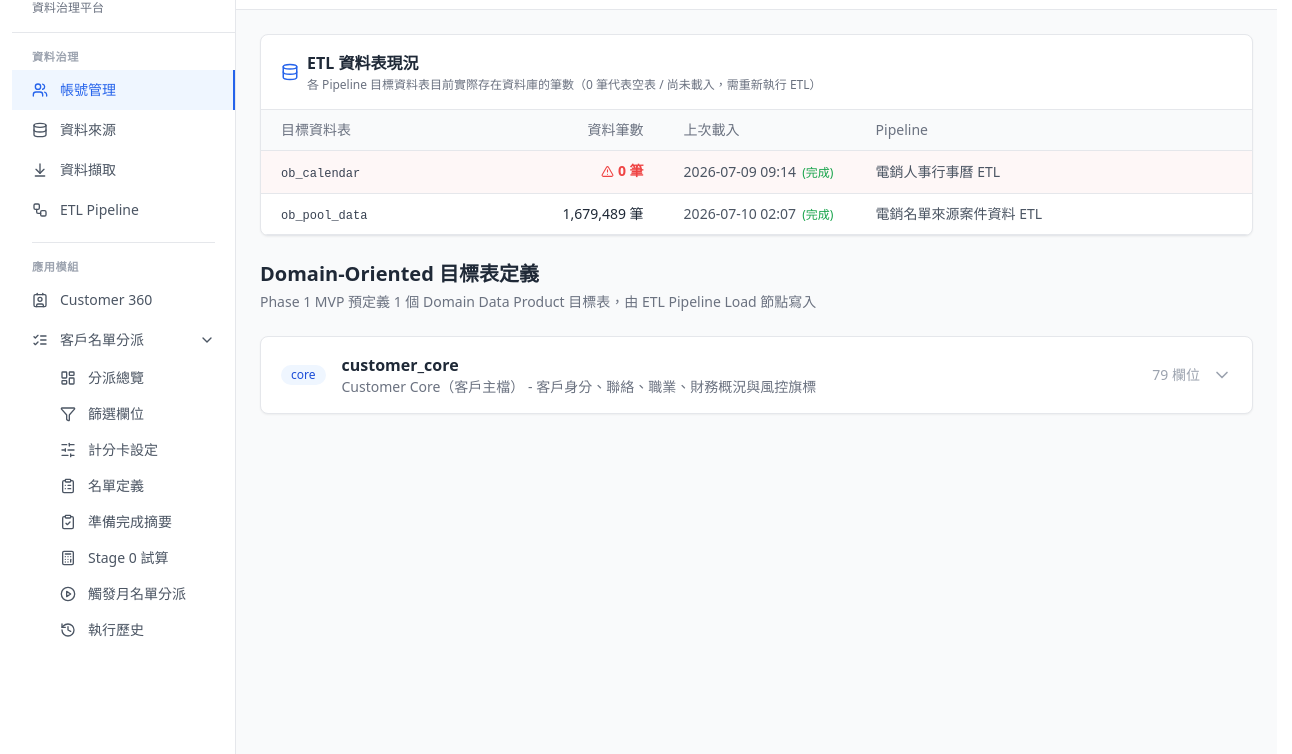
Test case: TargetTablesPage (v2.0 — 1 table) › should show ETL tracking rows with auto-fill label
The width and height of the screenshot is (1292, 754).
Click the button with test id "toggle-core" at (756,374), box [261,336,1252,412]
(page scrolled)
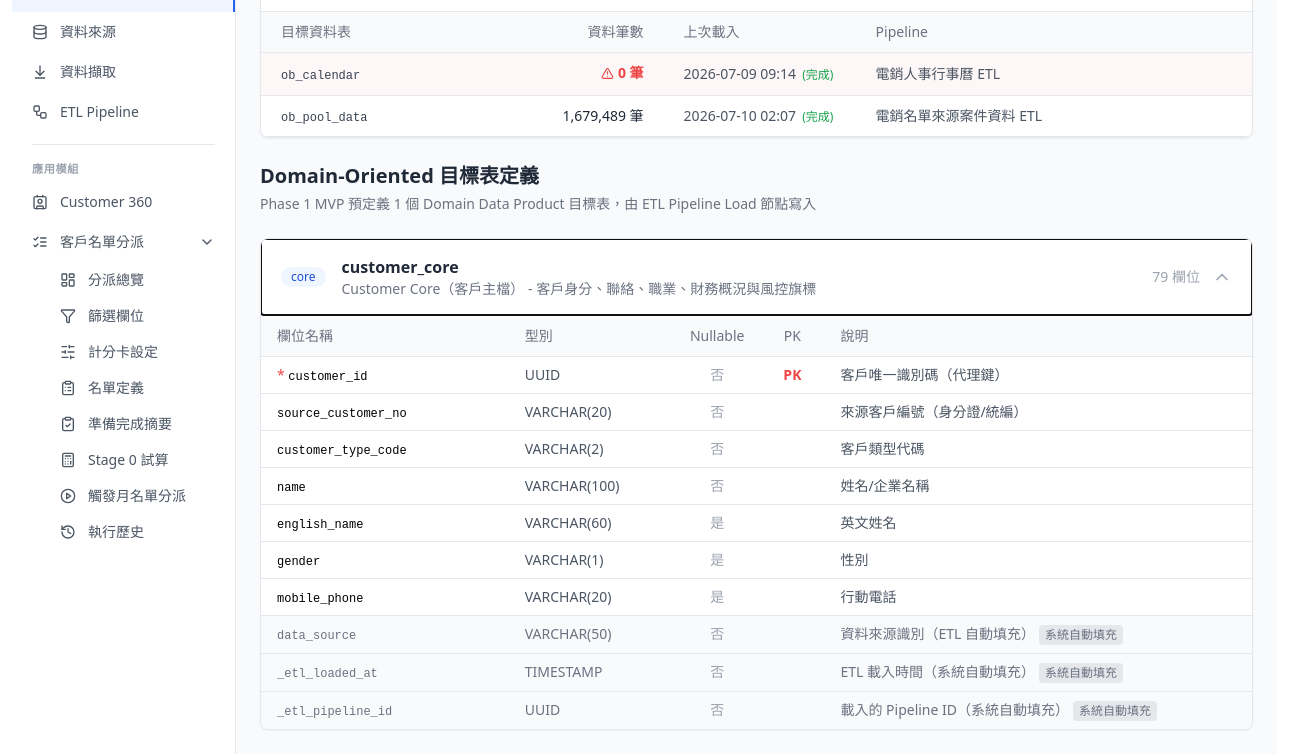
Result: the row with test id "etl-tracking-row-data_source" is shown at [261,615,1252,653]
Result: the row with test id "etl-tracking-row-_etl_loaded_at" is shown at [261,653,1252,691]
Result: the row with test id "etl-tracking-row-_etl_pipeline_id" is shown at [261,691,1252,728]
